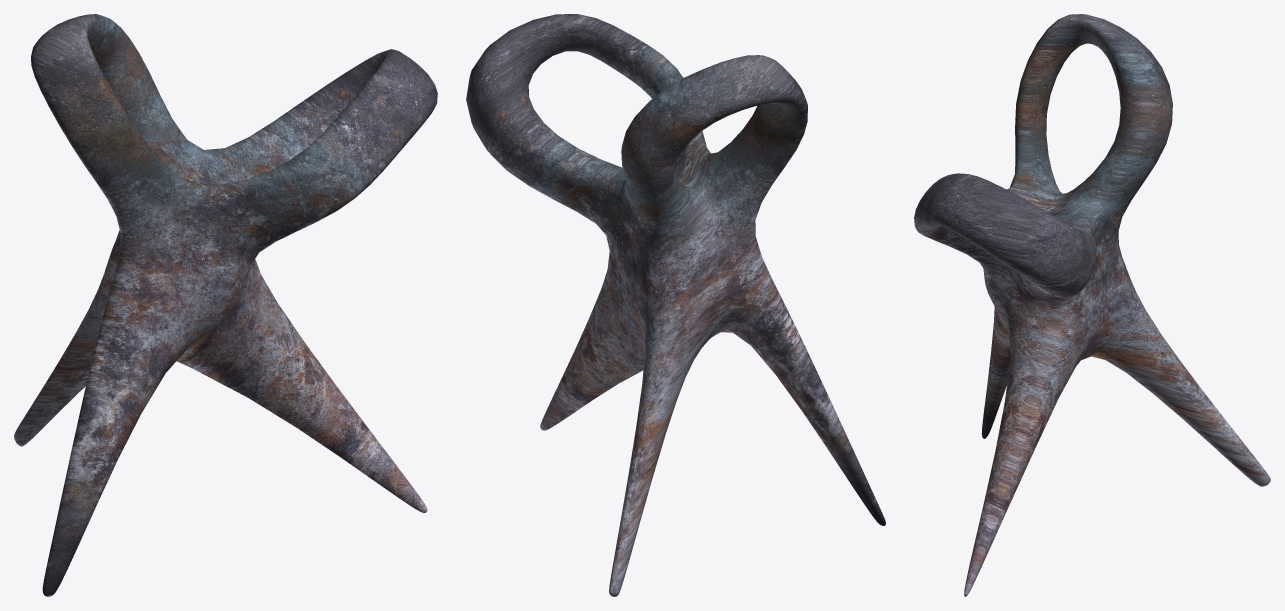
Rendered from SM_Sculpture02.fbx.
The picture shows the model from 3 angles, left to right: view 1: azimuth 30°, elevation 25°; view 2: azimuth 150°, elevation 25°; view 3: azimuth 270°, elevation 25°; orthographic projection. The views are drawn at different scales.
Visible parts, largest first — view 1: SM_Sculpture02; view 2: SM_Sculpture02; view 3: SM_Sculpture02.
Part boxes in pixels (bbox=[...]): SM_Sculpture02: bbox=[14, 14, 437, 596]; SM_Sculpture02: bbox=[466, 14, 885, 596]; SM_Sculpture02: bbox=[914, 14, 1270, 596].
Size of the model in its own units: 47.19 by 56.42 by 39.74.
